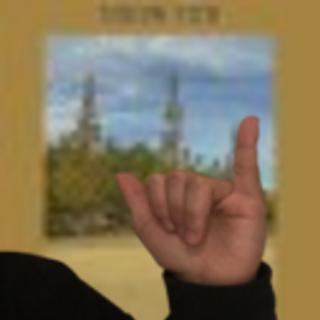HAVE: (110, 111, 286, 292)
